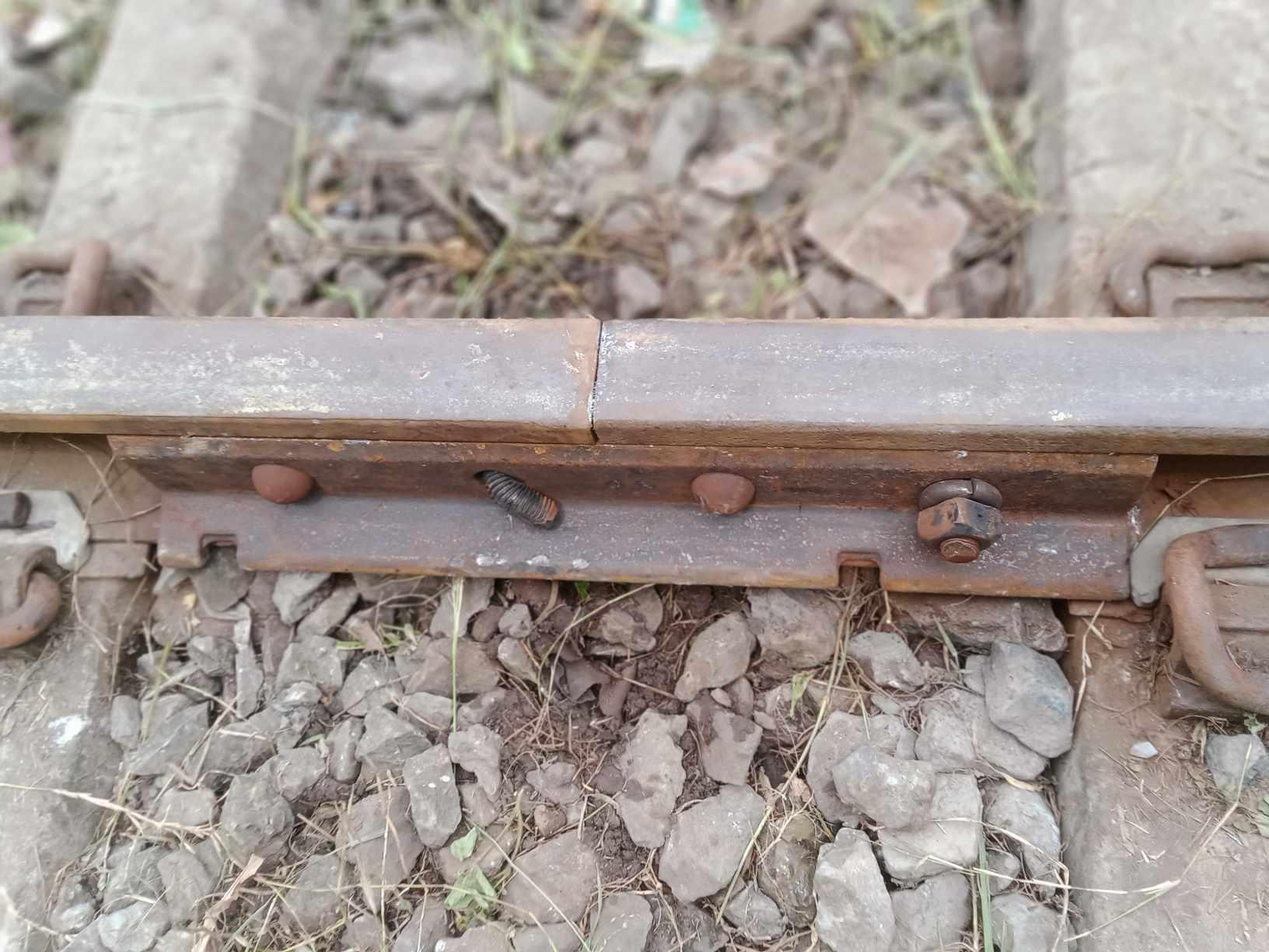railway-gap: (500, 290, 695, 469)
